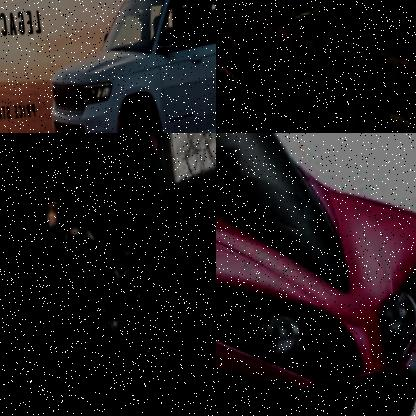bike: (216, 133, 416, 416), (9, 183, 165, 416), (273, 0, 416, 133)
car: (35, 0, 216, 133)
